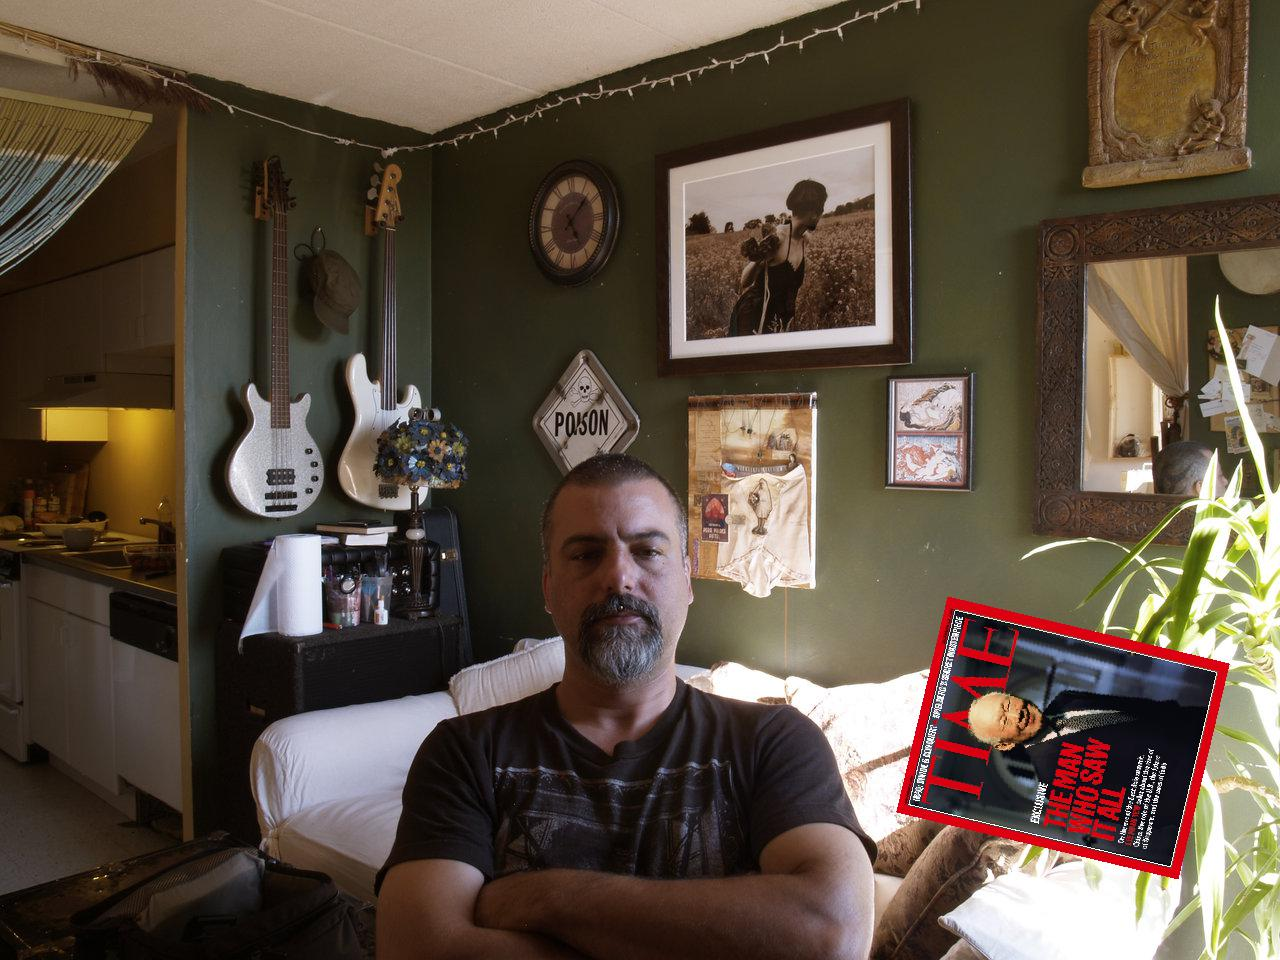times: (895, 596, 1229, 881)
